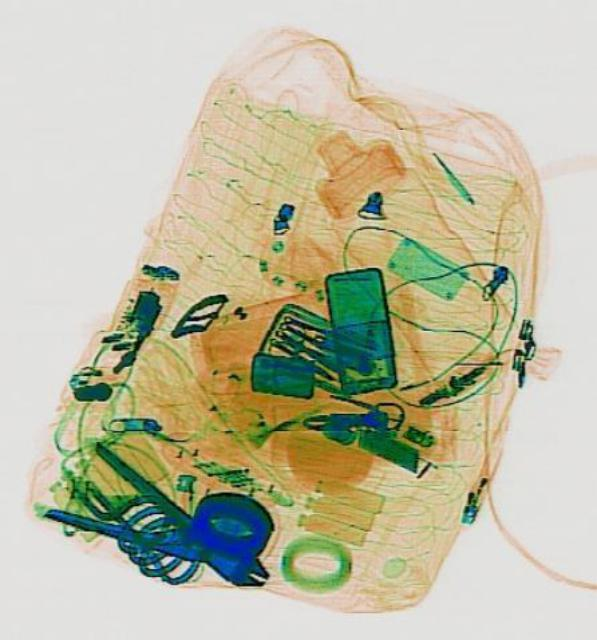Pliers: (39, 432, 286, 622)
